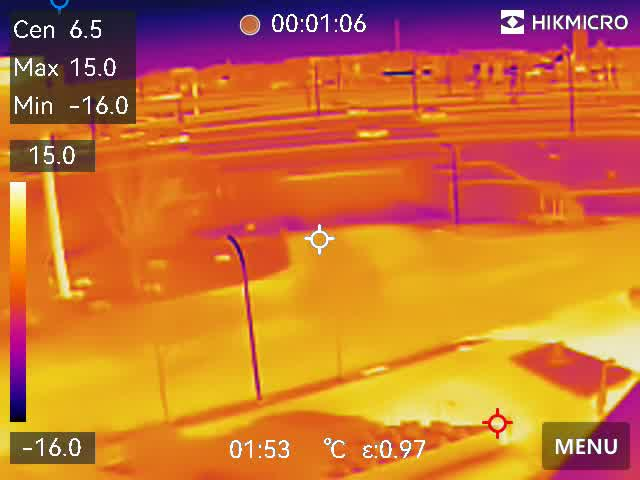vehicle: (151, 130, 196, 152), (354, 125, 392, 143), (414, 110, 452, 125), (339, 104, 371, 119), (117, 129, 145, 140)
